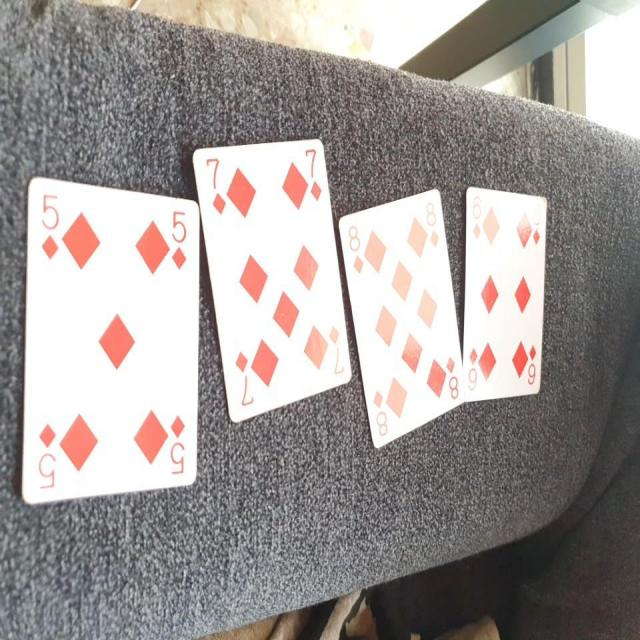5 Diamonds: (18, 165, 199, 506)
6 Diamonds: (459, 182, 546, 401)
7 Diamonds: (191, 133, 354, 420)
8 Diamonds: (337, 186, 461, 452)
